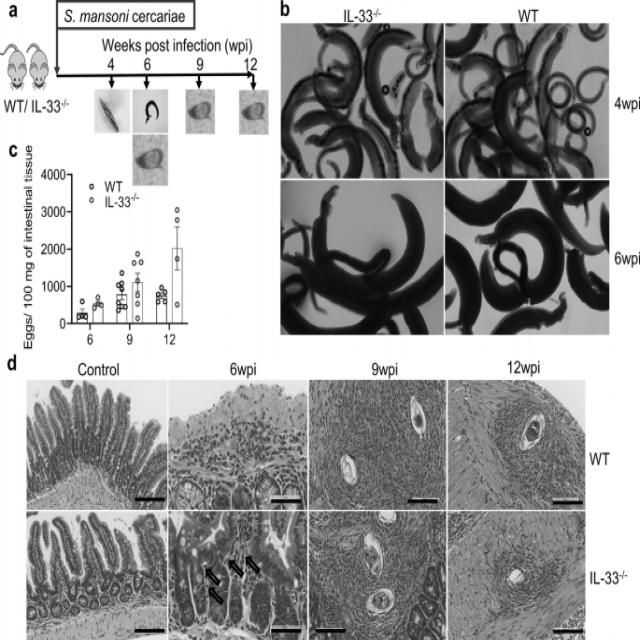Schistosoma: (359, 527, 388, 584), (514, 409, 546, 458), (133, 141, 172, 180), (406, 390, 430, 444), (362, 584, 398, 620), (240, 92, 275, 124), (186, 96, 220, 125)
